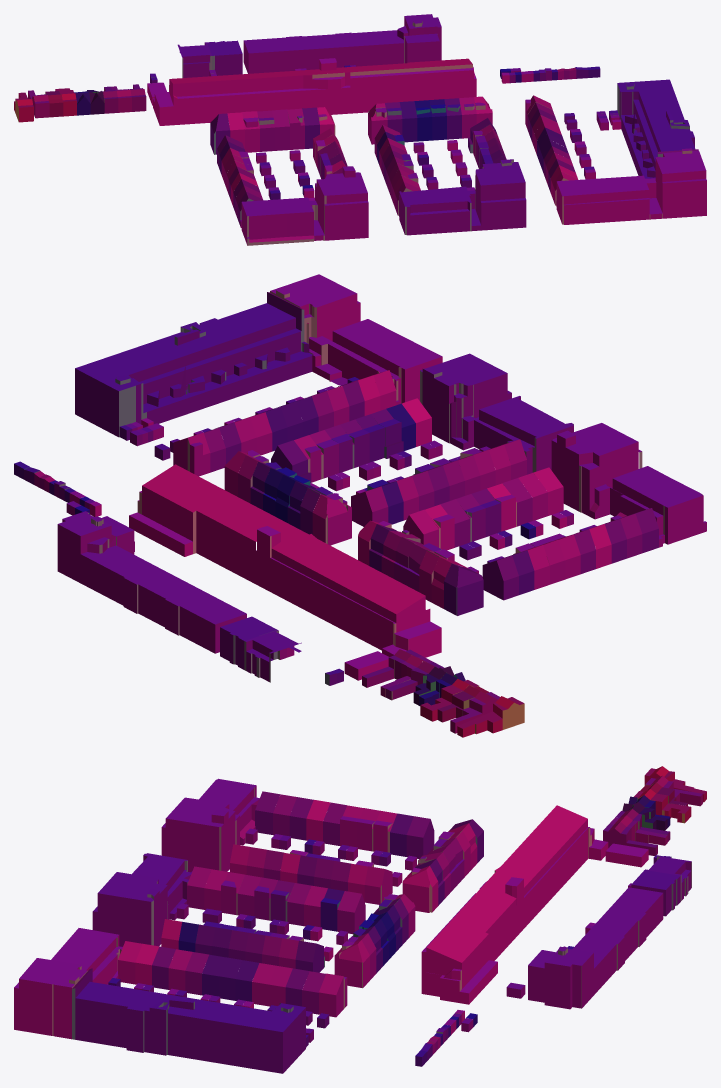
The model's file is buildings_11_13.glb.
3 renders of one model, top to bottom at view 1: azimuth 30°, elevation 25°; view 2: azimuth 150°, elevation 25°; view 3: azimuth 270°, elevation 25°, orthographic. The views are drawn at different scales.
Visible parts, largest first — view 1: buildings_11_13; view 2: buildings_11_13; view 3: buildings_11_13.
Boxes of the visible parts, x1,y1,x2,y2 form: buildings_11_13: (14, 14, 706, 245); buildings_11_13: (14, 274, 706, 737); buildings_11_13: (14, 766, 706, 1073).
Size of the model in its own units: 206 by 19.79 by 209.
